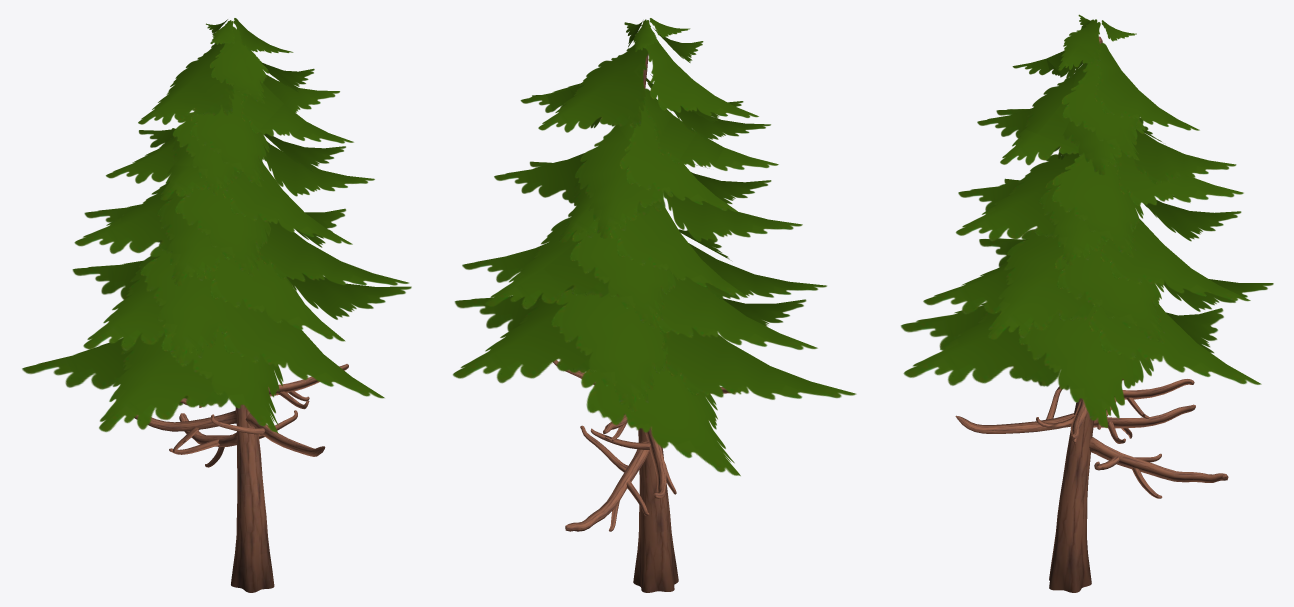
The model's file is Pine.glb.
3 renders of one model, left to right at view 1: azimuth 30°, elevation 25°; view 2: azimuth 150°, elevation 25°; view 3: azimuth 270°, elevation 25°, orthographic. The views are drawn at different scales.
Parts seen in each view (by area): view 1: Pine_1; view 2: Pine_1; view 3: Pine_1.
Part boxes in pixels (x1=…): Pine_1: x1=22, y1=18, x2=411, y2=592; Pine_1: x1=453, y1=18, x2=856, y2=592; Pine_1: x1=901, y1=14, x2=1273, y2=592.
Size of the model in its own units: 4.94 by 7.32 by 4.54.
Materials: 2 (2 with a texture image).
